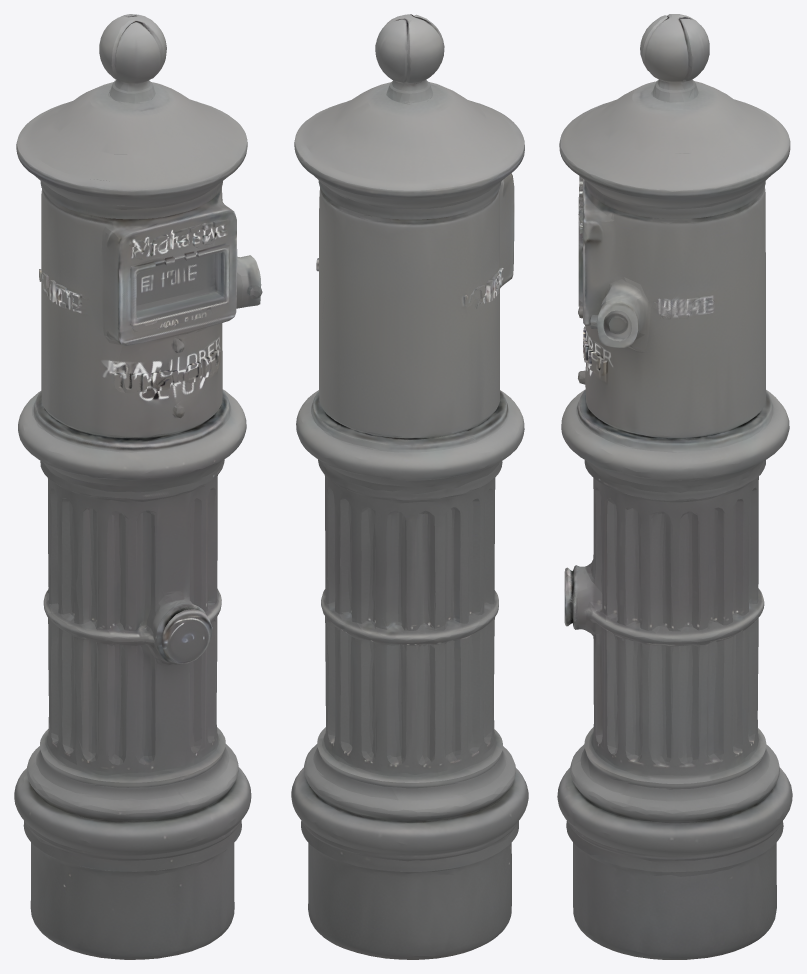
File: alarm_box.gltf
The picture shows the model from 3 angles, left to right: view 1: azimuth 30°, elevation 25°; view 2: azimuth 150°, elevation 25°; view 3: azimuth 270°, elevation 25°; orthographic projection.
Parts seen in each view (by area): view 1: AlarmBox; view 2: AlarmBox; view 3: AlarmBox.
Part boxes in pixels (x1=…): AlarmBox: x1=14, y1=14, x2=262, y2=959; AlarmBox: x1=291, y1=14, x2=528, y2=959; AlarmBox: x1=557, y1=14, x2=792, y2=959.
Size of the model in its own units: 0.4308 by 1.81 by 0.426.
1 material, 1 textured.
